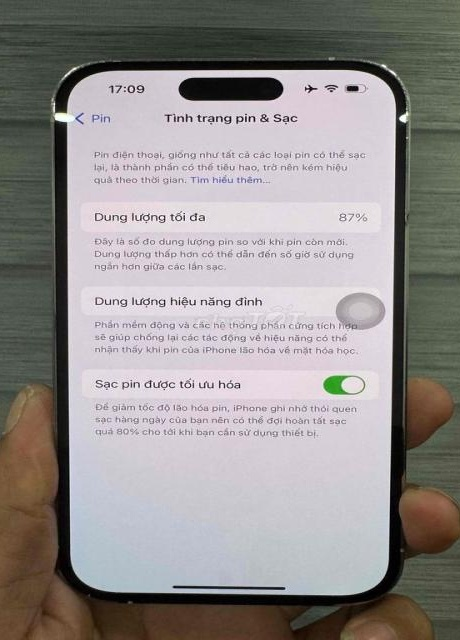scratch: (60, 45, 399, 76)
